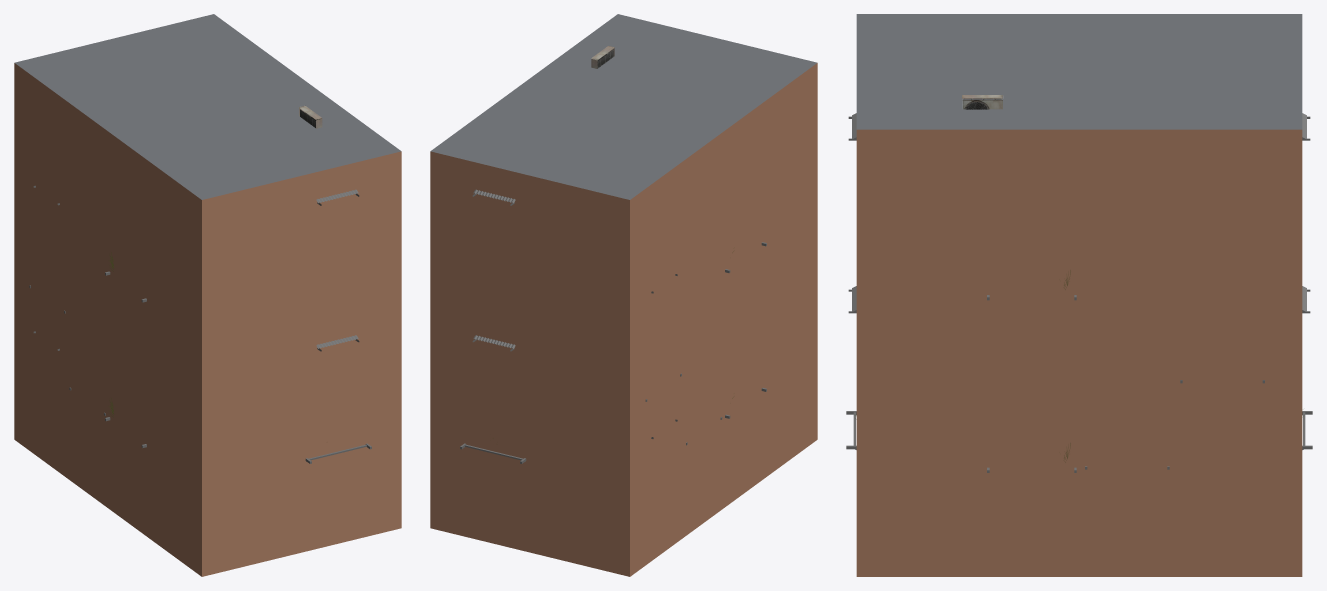
Rendered from bldg_06_terracotta_shop.glb.
3 views of the same model, side by side, from view 1: azimuth 30°, elevation 25°; view 2: azimuth 150°, elevation 25°; view 3: azimuth 270°, elevation 25° (orthographic). The views are drawn at different scales.
Parts seen in each view (by area): view 1: bldg_06_terracotta_shop; view 2: bldg_06_terracotta_shop; view 3: bldg_06_terracotta_shop.
Boxes of the visible parts, left/top/right/bottom form: bldg_06_terracotta_shop: left=14, top=14, right=401, bottom=576; bldg_06_terracotta_shop: left=430, top=14, right=817, bottom=576; bldg_06_terracotta_shop: left=846, top=14, right=1312, bottom=576.
Size of the model in its own units: 6.18 by 10.6 by 9.79.
8 materials, 6 textured.
